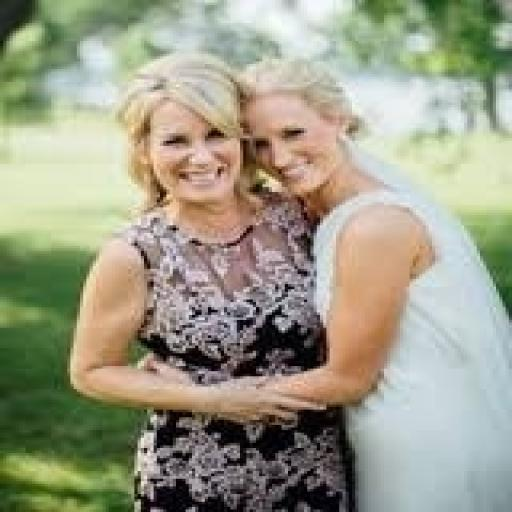hugging: (64, 52, 509, 510)
